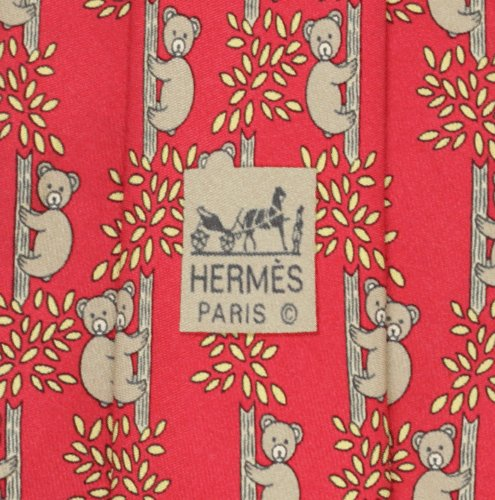HERMES: (186, 179, 309, 329)
